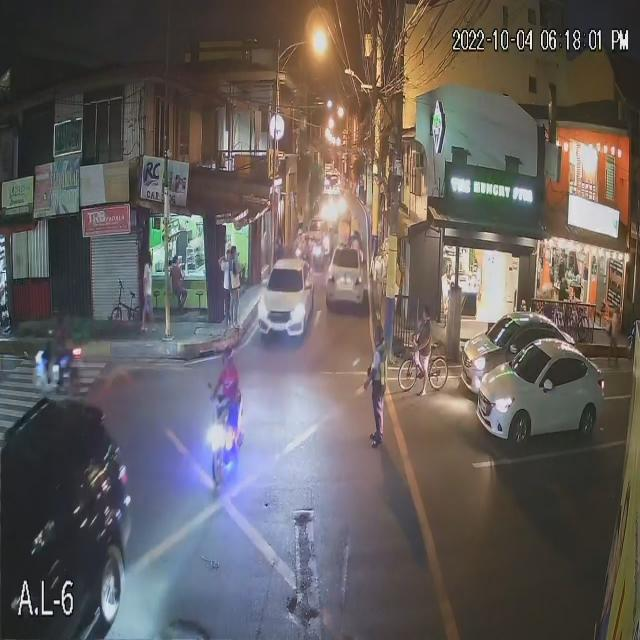motorcycle: (210, 424, 251, 487), (27, 351, 82, 393)
rider: (222, 370, 238, 415)
